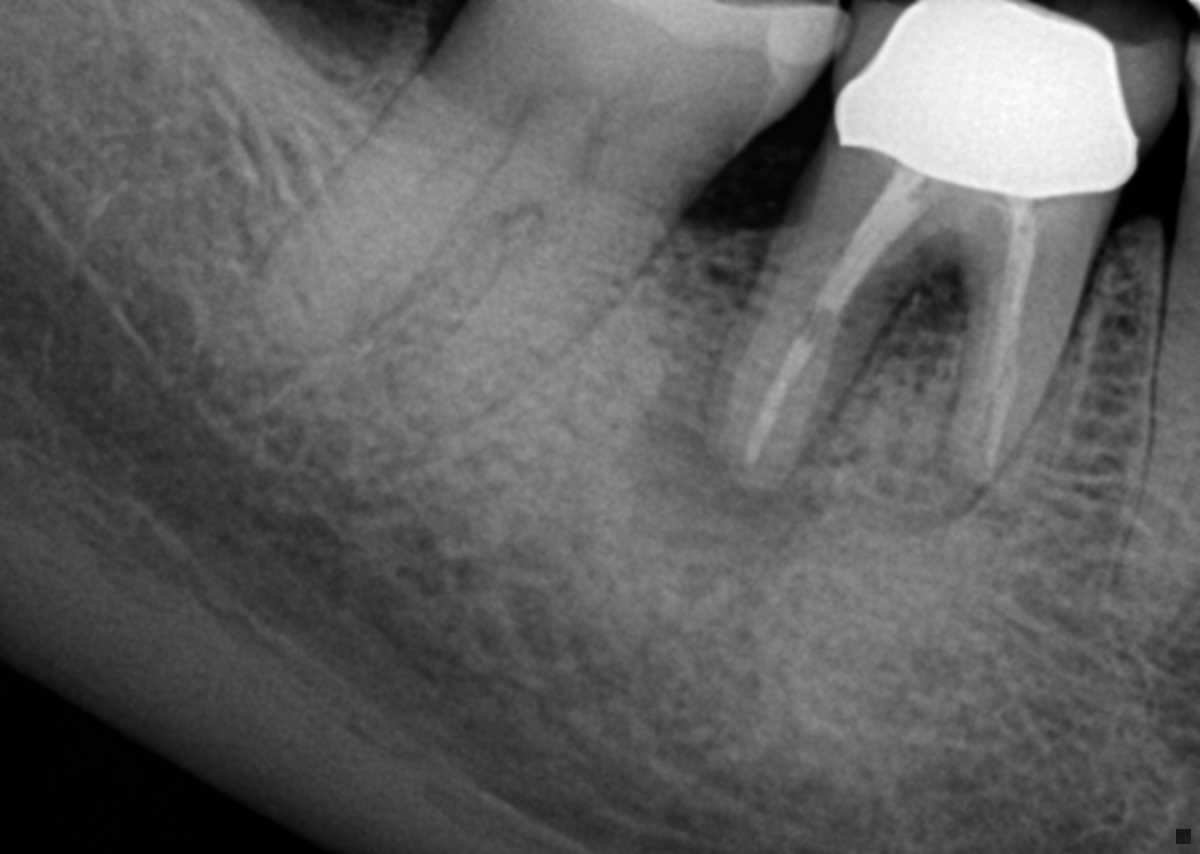Apical Lesion: (628, 251, 858, 579), (903, 460, 974, 536)
Distal Canal: (371, 98, 528, 237)
Distal Root: (250, 69, 545, 352), (709, 208, 925, 499)
Main Root: (1110, 239, 1200, 658)
Mesial Canal: (534, 133, 605, 312)
Mesial Root: (391, 161, 693, 434), (939, 242, 1100, 494)
Root Canal Filling: (970, 204, 1037, 471), (811, 167, 929, 313), (747, 335, 813, 471)
